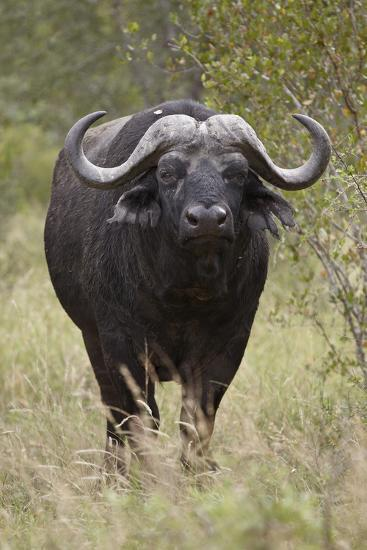Buffalo: (20, 65, 359, 550)
